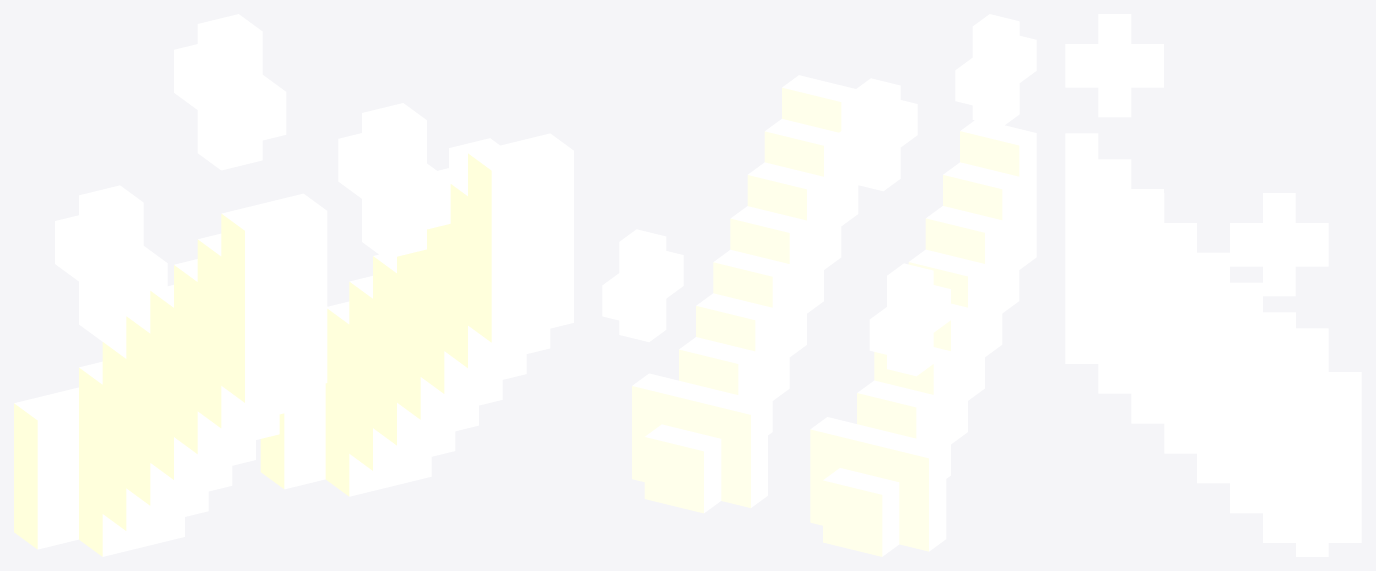
File: 2067_gaze_amber-beam.glb
The picture shows the model from 3 angles, left to right: view 1: azimuth 30°, elevation 25°; view 2: azimuth 150°, elevation 25°; view 3: azimuth 270°, elevation 25°; orthographic projection. The views are drawn at different scales.
Size of the model in its own units: 11 by 14 by 9.
